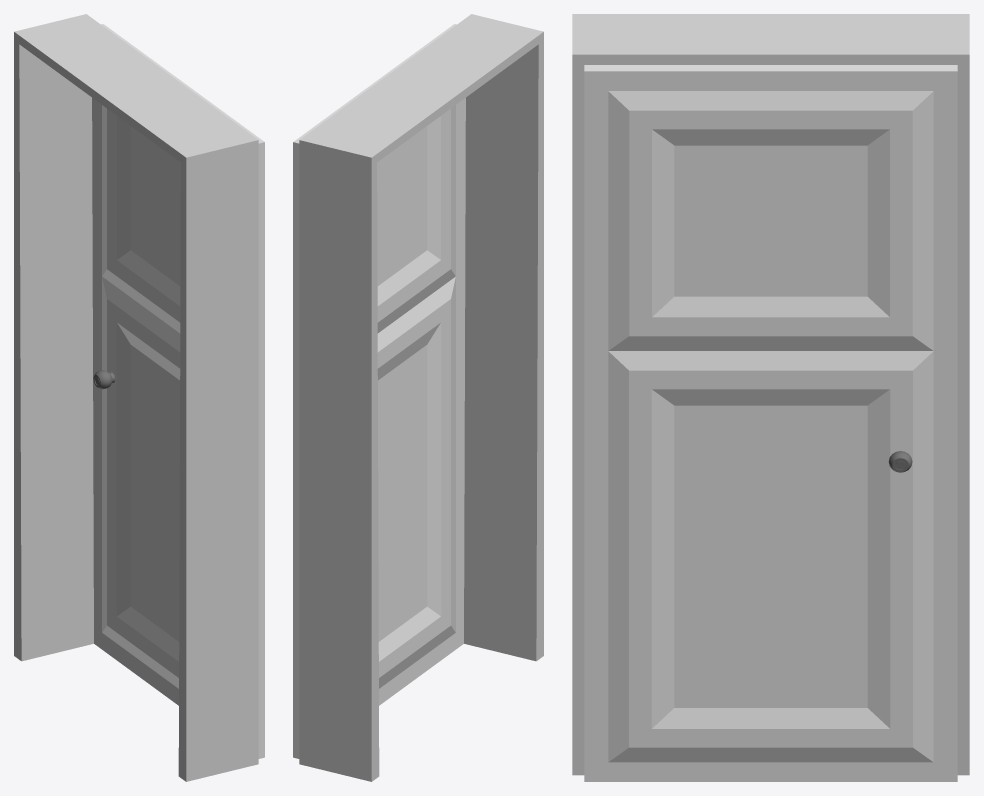
File: Door01.fbx
3 views of the same model, side by side, from view 1: azimuth 30°, elevation 25°; view 2: azimuth 150°, elevation 25°; view 3: azimuth 270°, elevation 25° (orthographic). The views are drawn at different scales.
Parts seen in each view (by area): view 1: Wall02Door, Wall02Door.001; view 2: Wall02Door, Wall02Door.001; view 3: Wall02Door.001, Wall02Door.
Part boxes in pixels (x1,y1,x2,y2): Wall02Door: (14, 14, 258, 781); Wall02Door.001: (92, 24, 264, 758); Wall02Door: (299, 14, 543, 781); Wall02Door.001: (293, 24, 465, 758); Wall02Door.001: (584, 65, 957, 781); Wall02Door: (572, 14, 969, 775).
Bounding box in the file's own units: 0.38 × 1.1 × 2.2.
